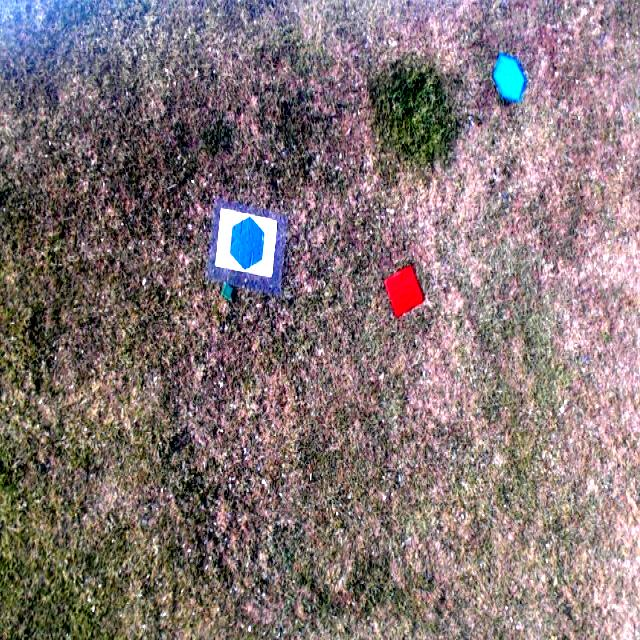blue_hexagon: (229, 216, 266, 270), (494, 54, 526, 102)
red_square: (385, 263, 425, 319)
